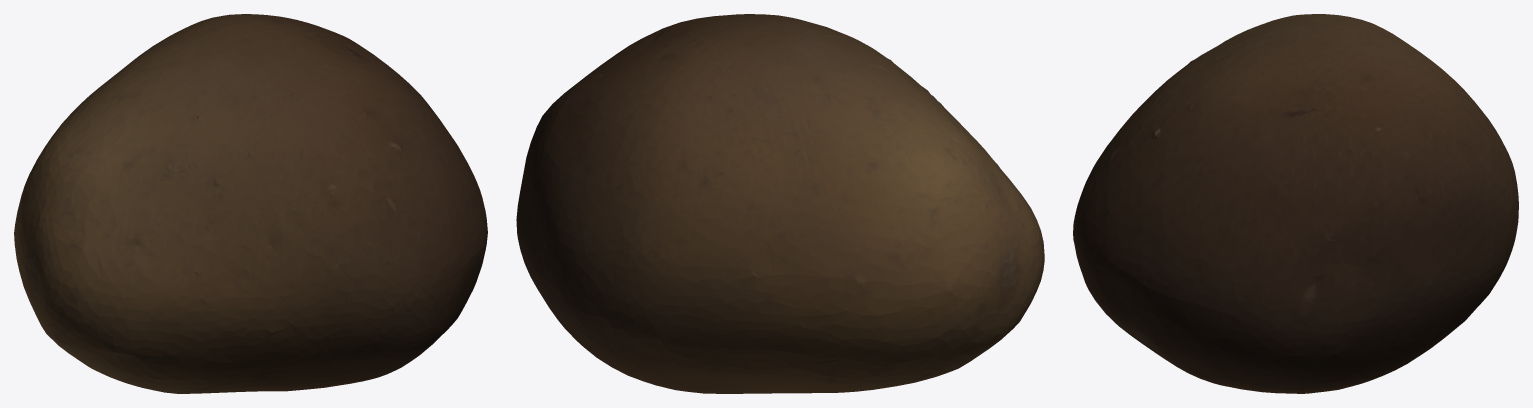
Rendered from sample(4).glb.
3 views of the same model, side by side, from view 1: azimuth 30°, elevation 25°; view 2: azimuth 150°, elevation 25°; view 3: azimuth 270°, elevation 25° (orthographic). The views are drawn at different scales.
Visible parts, largest first — view 1: world; view 2: world; view 3: world.
Part boxes in pixels (bbox=[...]): world: bbox=[14, 14, 487, 393]; world: bbox=[516, 14, 1044, 393]; world: bbox=[1073, 14, 1518, 393].
Bounding box in the file's own units: 0.641 × 0.4556 × 0.5879.
1 material, 1 textured.
